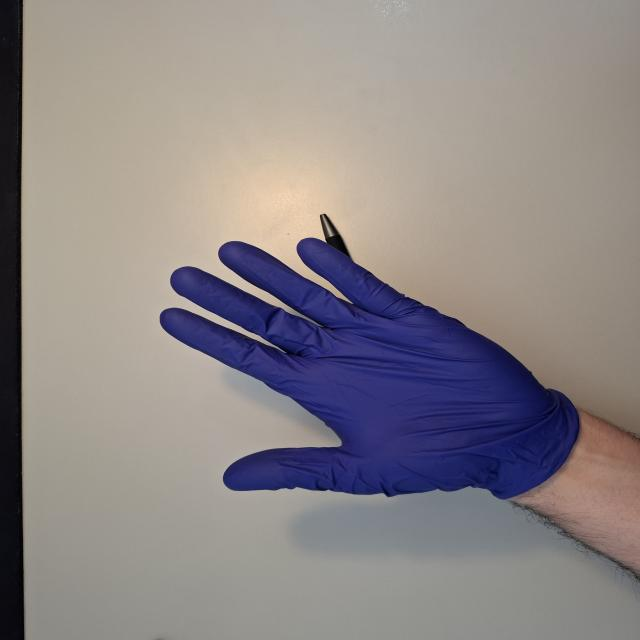glove_on: (157, 235, 570, 498)
